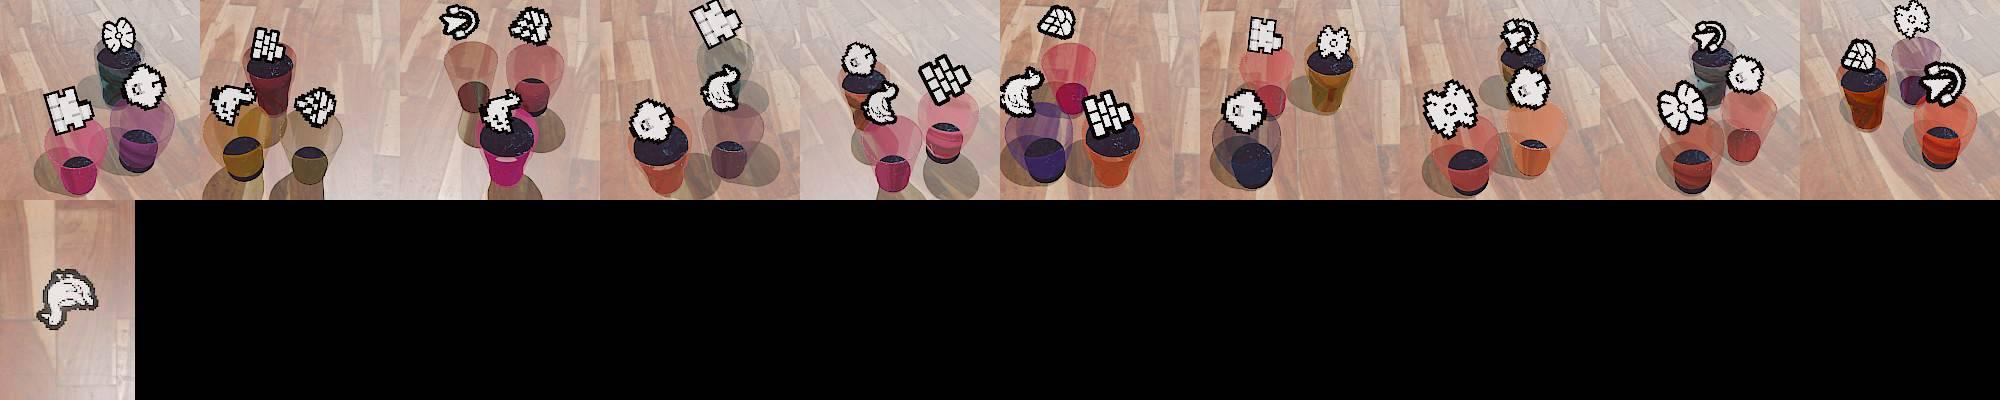icon: (36, 266, 98, 332), (1422, 79, 1481, 139), (1082, 89, 1136, 141), (1657, 79, 1709, 134), (918, 52, 971, 106), (43, 84, 97, 136), (689, 0, 742, 50), (999, 66, 1045, 121), (1219, 85, 1269, 135), (629, 98, 676, 144), (122, 64, 168, 110), (1920, 61, 1966, 107), (700, 62, 741, 113), (209, 83, 256, 126), (1508, 65, 1551, 111), (481, 89, 523, 134), (295, 85, 338, 127), (508, 6, 552, 46), (864, 80, 899, 126), (1312, 23, 1351, 64), (1726, 55, 1764, 96), (437, 4, 480, 41), (1246, 15, 1284, 55), (250, 25, 287, 65), (1500, 18, 1540, 54), (1894, 0, 1930, 39), (101, 17, 136, 55), (842, 41, 878, 76), (1691, 19, 1727, 55), (1038, 5, 1075, 39), (1841, 38, 1876, 73)
